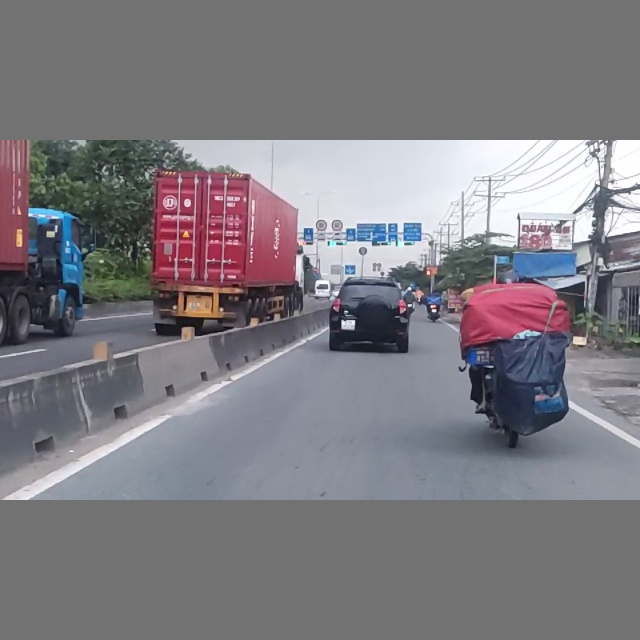P.127*60: (330, 219, 343, 232)
P.127*80: (316, 219, 327, 231)
